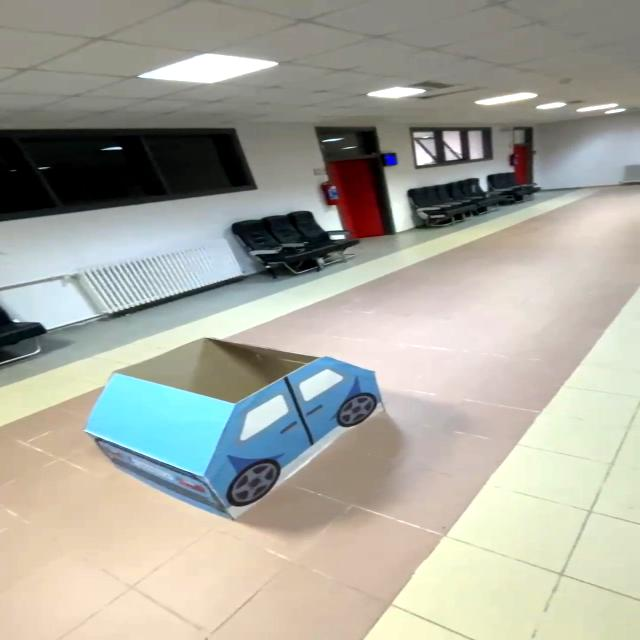blue_car: (48, 322, 425, 527)
